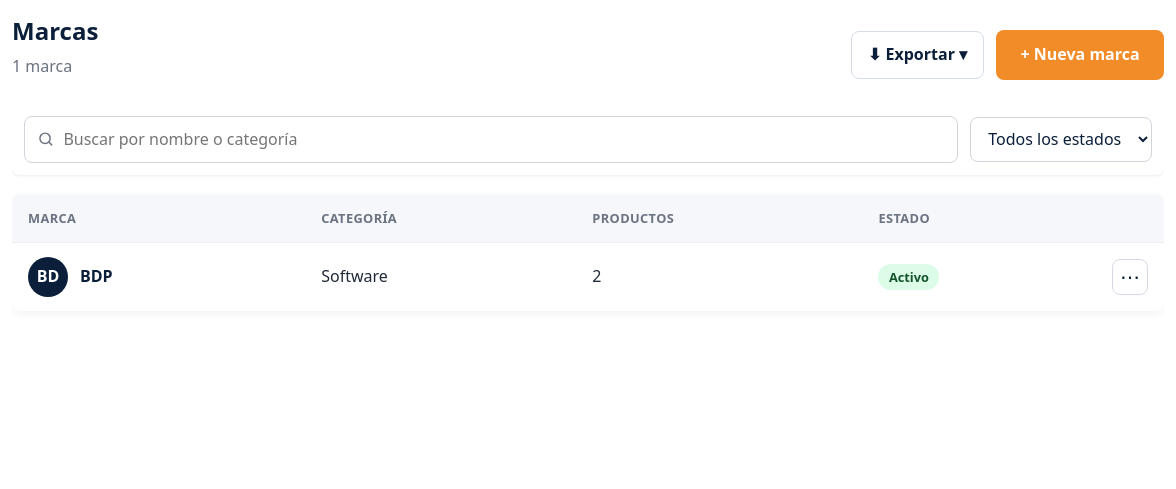
Test: admin CRUD screens › Marcas: inactivating a brand explains that its products are hidden too
Click the button with test id "row-actions" showing "⋯". click: (1130, 277)
box: [1112,259,1148,295]
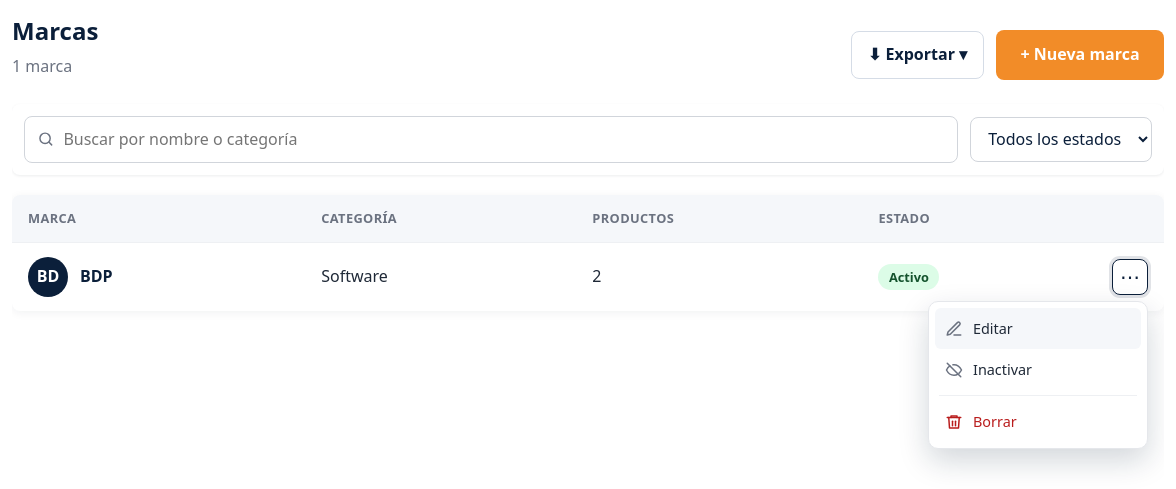
Click the menu item "Inactivar". click: (1038, 370)
box: [935,349,1141,390]
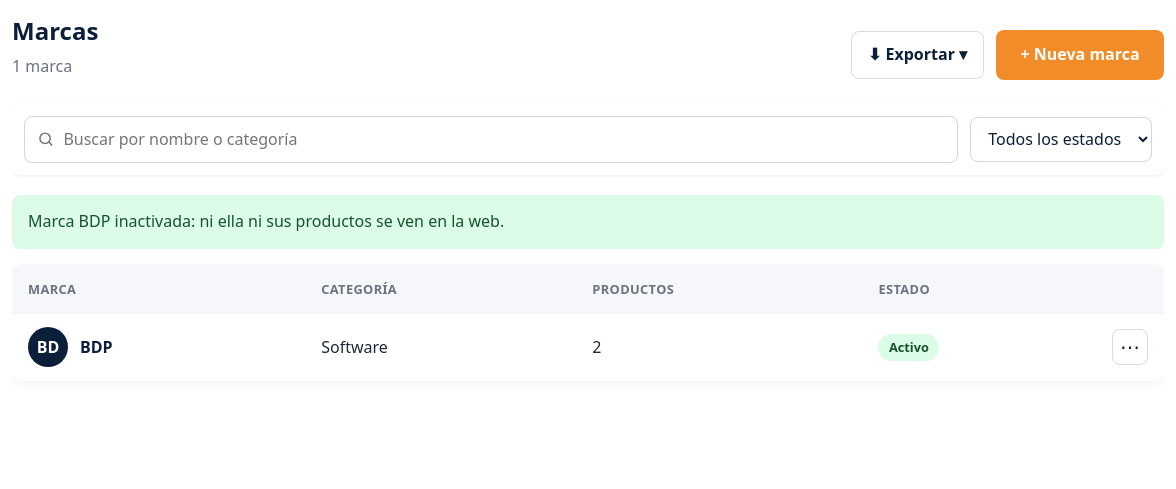
Expected: the message "Marca BDP inactivada: ni ella ni sus productos se ven en la web." is shown, [12,195,1164,249]
